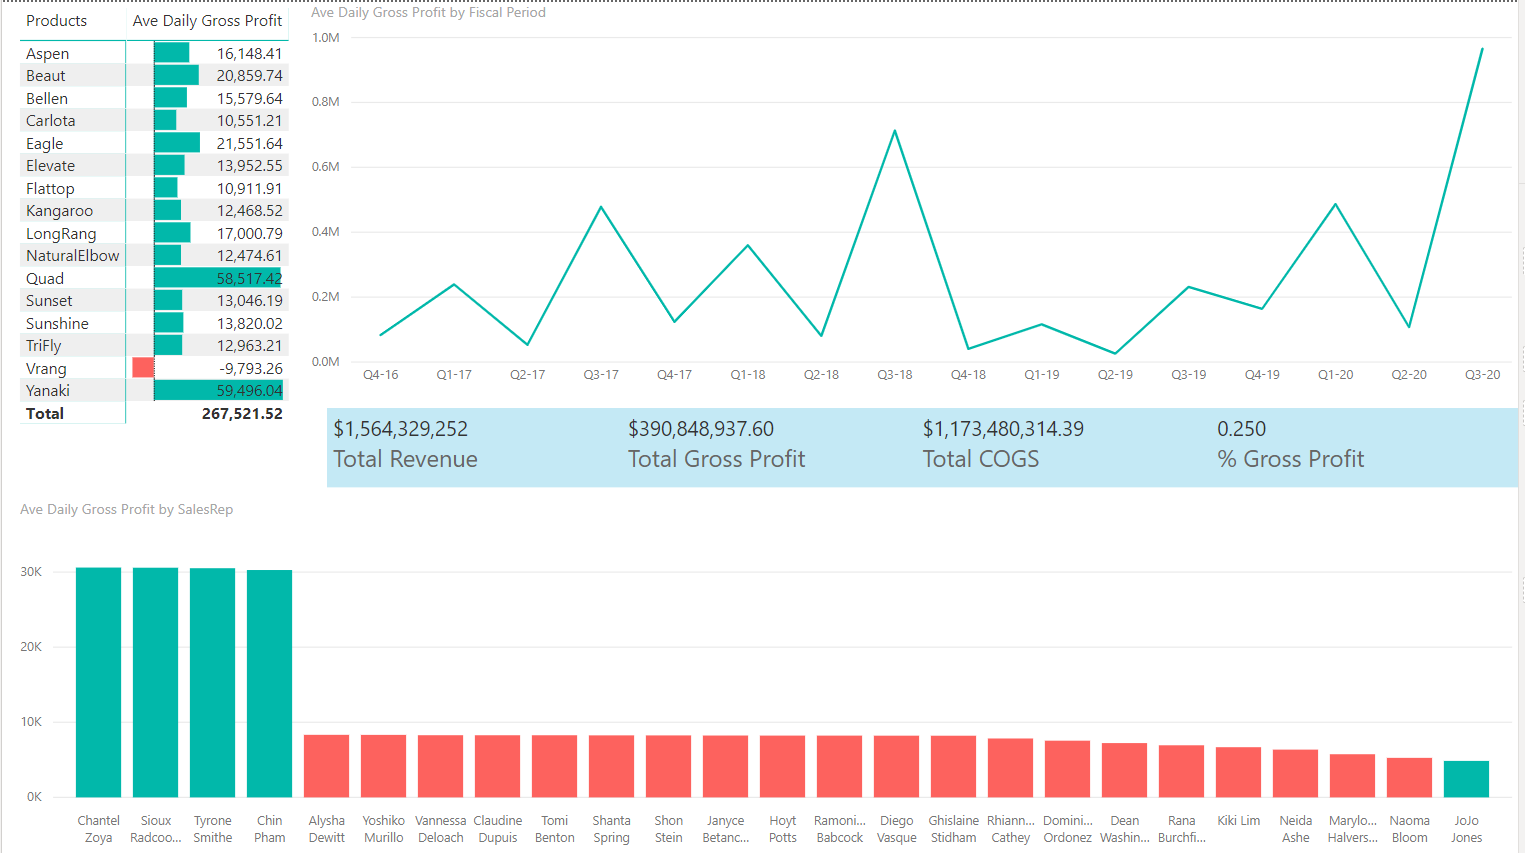

The page's visual inventory and layout, read from the dashboard file:
{"tool":"powerbi","page":{"name":"Ave Daily GP","canvas":[1280,720],"ordinal":0},"visuals":[{"type":"pivotTable","fields":{"Rows":["dProduct.Products"],"Values":["fTransactions.Ave Daily Gross Profit"]},"box":[10.1,0,245.7,376.6],"z":0},{"type":"clusteredColumnChart","fields":{"Category":["dSalesReps.Region Hierarchy.Region","dSalesReps.Region Hierarchy.SalesRep"],"Y":["fTransactions.Ave Daily Gross Profit"]},"box":[10.1,419.6,1269.9,300.6],"z":1000},{"type":"lineChart","fields":{"Category":["dDate.Fiscal Period"],"Y":["fTransactions.Ave Daily Gross Profit"]},"box":[255.8,0,1024.2,332.7],"z":2000},{"type":"multiRowCard","fields":{"Values":["fTransactions.Total Revenue","fTransactions.Total Gross Profit","fTransactions.Total COGS","fTransactions.% Gross Profit"]},"box":[274.4,342.8,1005.6,66.7],"z":3000}]}

Visuals, with their boxes in screenshot pixels (x1, y1, x2, y2), scaled from the page's 1280x720 canvas onto the 1525x853 screenshot:
pivotTable - dProduct.Products x fTransactions.Ave Daily Gross Profit: 12, 0, 305, 446
clusteredColumnChart - dSalesReps.Region Hierarchy.Region x dSalesReps.Region Hierarchy.SalesRep: 12, 497, 1524, 852
lineChart - dDate.Fiscal Period x fTransactions.Ave Daily Gross Profit: 305, 0, 1524, 394
multiRowCard - fTransactions.Total Revenue x fTransactions.Total Gross Profit: 327, 406, 1524, 485
